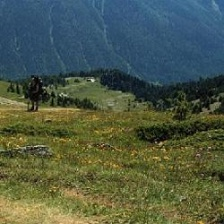neutral: (1, 3, 223, 222)
